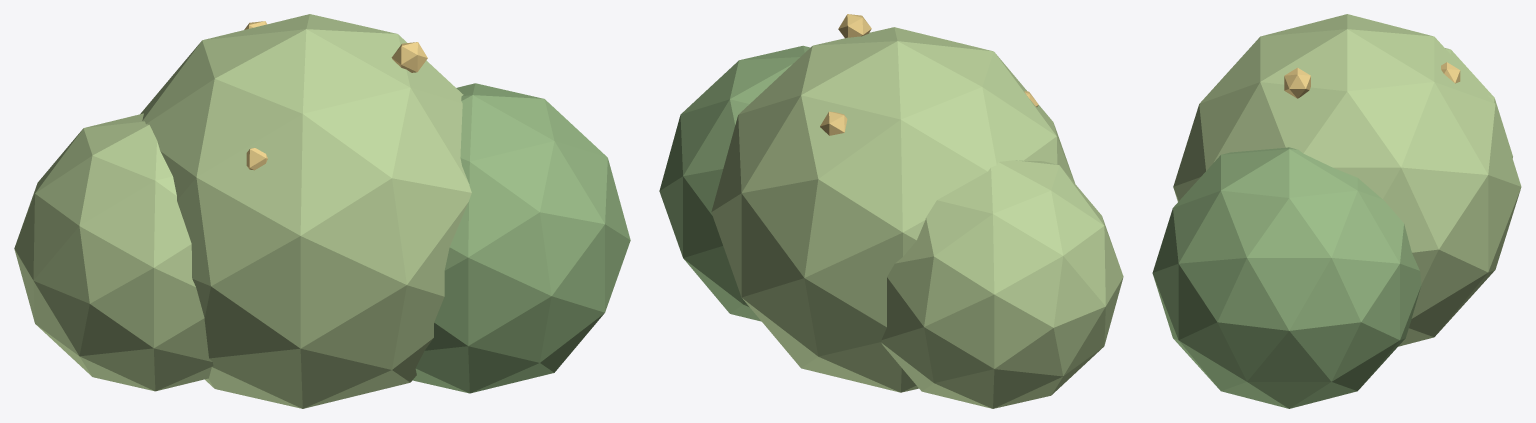
File: bush.glb
3 views of the same model, side by side, from view 1: azimuth 30°, elevation 25°; view 2: azimuth 150°, elevation 25°; view 3: azimuth 270°, elevation 25° (orthographic). The views are drawn at different scales.
Visible parts, largest first — view 1: blob_a, blob_b, blob_c, berry_0; view 2: blob_a, blob_c, blob_b, berry_0, berry_2; view 3: blob_b, blob_a, berry_0, blob_c.
Part boxes in pixels (x1=…): blob_a: x1=140, y1=14, x2=471, y2=408; blob_b: x1=412, y1=83, x2=630, y2=393; blob_c: x1=14, y1=113, x2=213, y2=391; berry_0: x1=391, y1=42, x2=427, y2=72; blob_a: x1=711, y1=27, x2=1074, y2=392; blob_c: x1=881, y1=160, x2=1123, y2=408; blob_b: x1=659, y1=45, x2=810, y2=321; berry_0: x1=838, y1=14, x2=871, y2=38; berry_2: x1=820, y1=111, x2=847, y2=135; blob_b: x1=1152, y1=147, x2=1421, y2=408; blob_a: x1=1173, y1=14, x2=1521, y2=346; berry_0: x1=1284, y1=67, x2=1310, y2=98; blob_c: x1=1445, y1=48, x2=1512, y2=158.
Bounding box in the file's own units: 1.19 × 0.8 × 0.8476.
